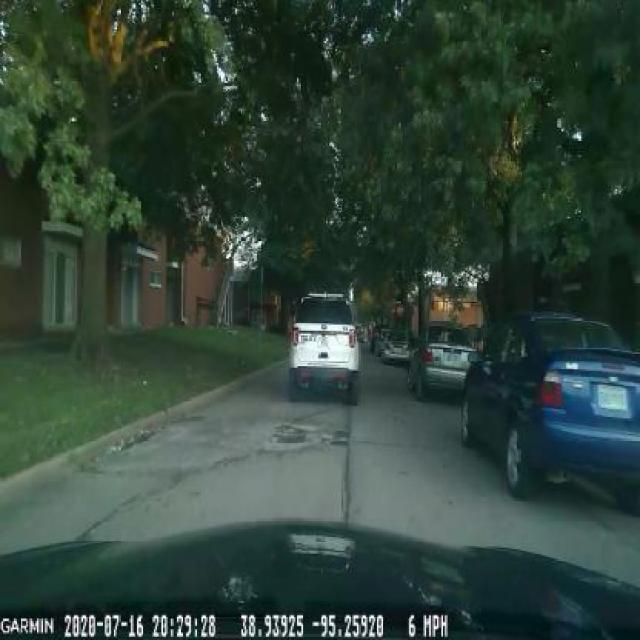Pothole: (268, 404, 310, 462), (324, 420, 354, 458)
